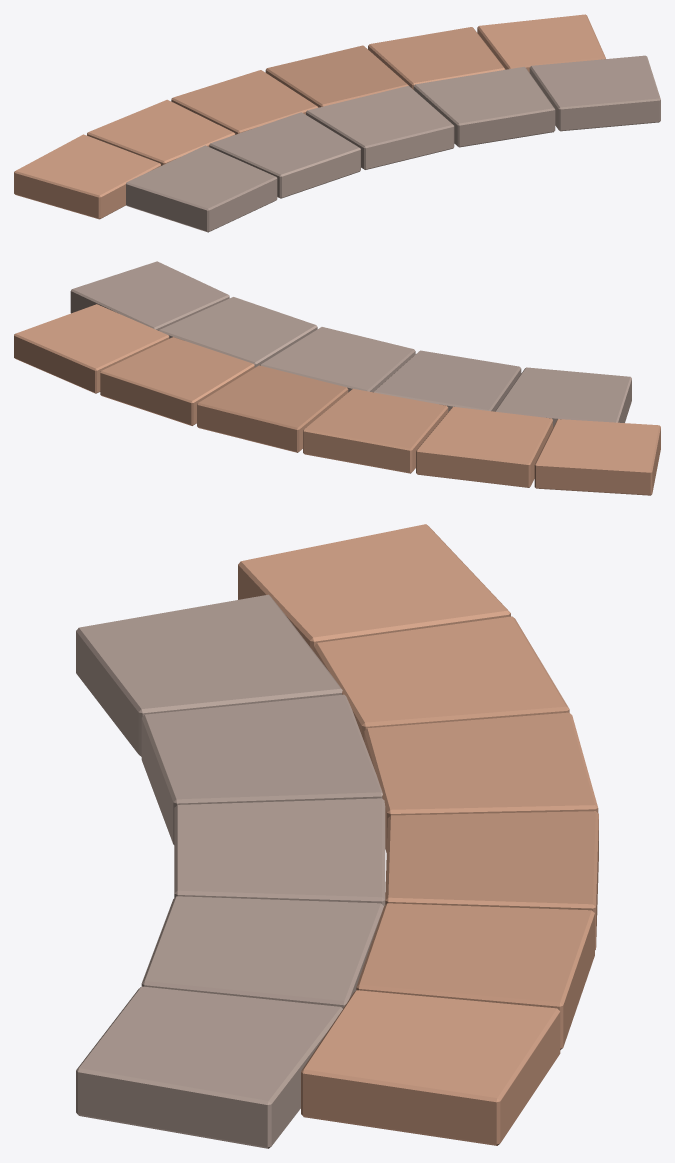
The model's file is Floor_Walkway_Segment.fbx.
3 views of the same model, one above another, from view 1: azimuth 30°, elevation 25°; view 2: azimuth 150°, elevation 25°; view 3: azimuth 270°, elevation 25° (orthographic). The views are drawn at different scales.
Parts seen in each view (by area): view 1: Floor_Walkway_Segment; view 2: Floor_Walkway_Segment; view 3: Floor_Walkway_Segment.
Boxes of the visible parts, x1=… form: Floor_Walkway_Segment: x1=14, y1=14, x2=660, y2=232; Floor_Walkway_Segment: x1=14, y1=261, x2=660, y2=495; Floor_Walkway_Segment: x1=76, y1=524, x2=598, y2=1148.
Size of the model in its own units: 12.97 by 0.5 by 4.95.
